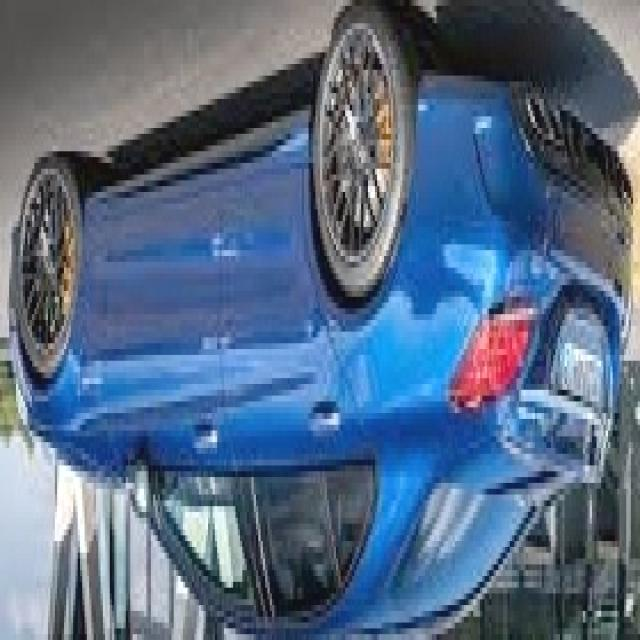blue: (6, 13, 636, 640)
